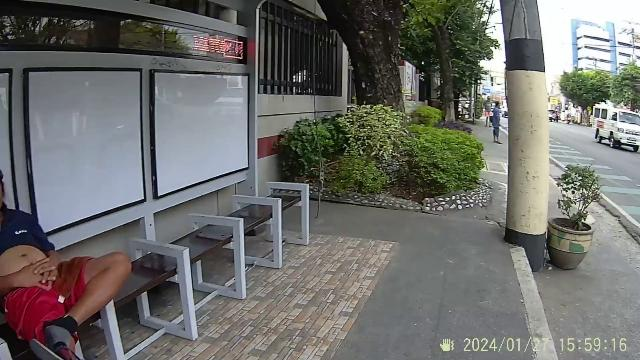potted_plant: (544, 161, 610, 271)
utility_post: (504, 0, 548, 256)
